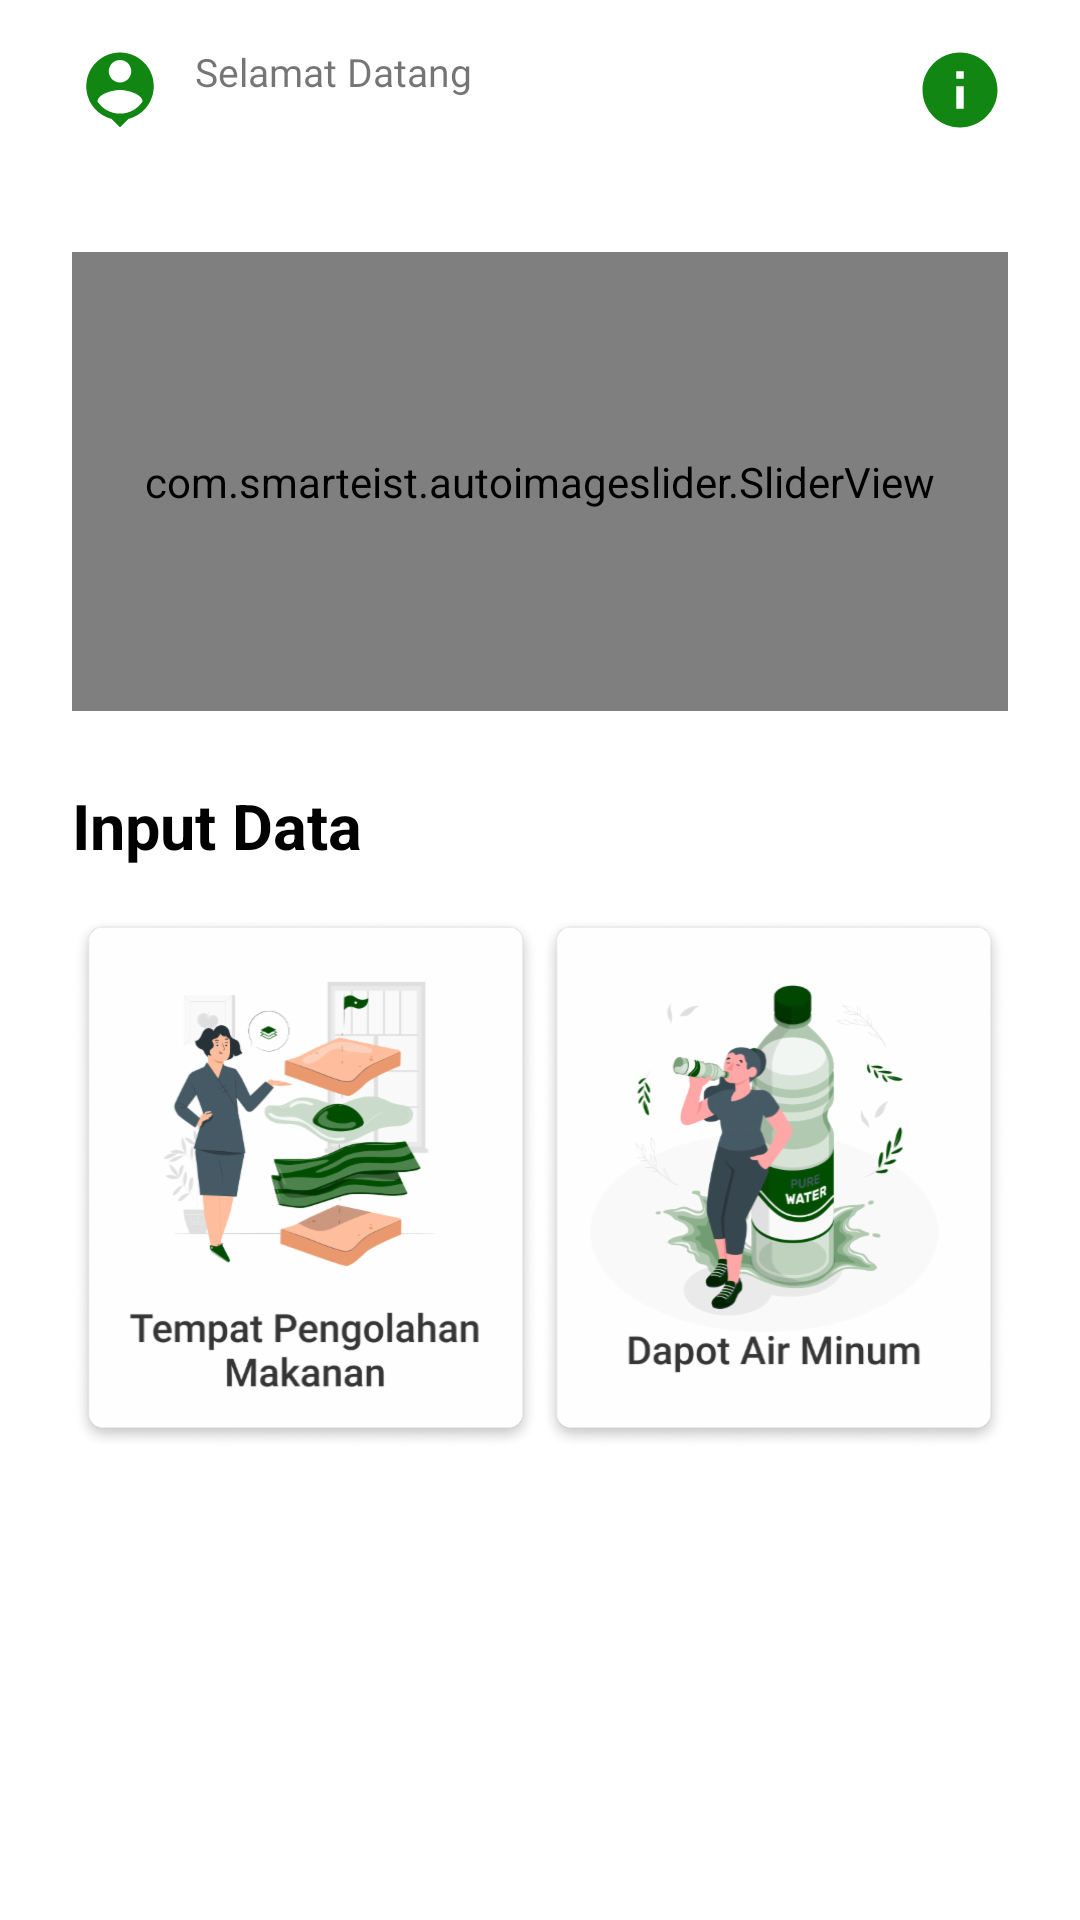

Icons on this 1080px x 1920px Android screen, each with the point to tap as point (x, y):
info: point (960, 90)
person pin: point (120, 89)
